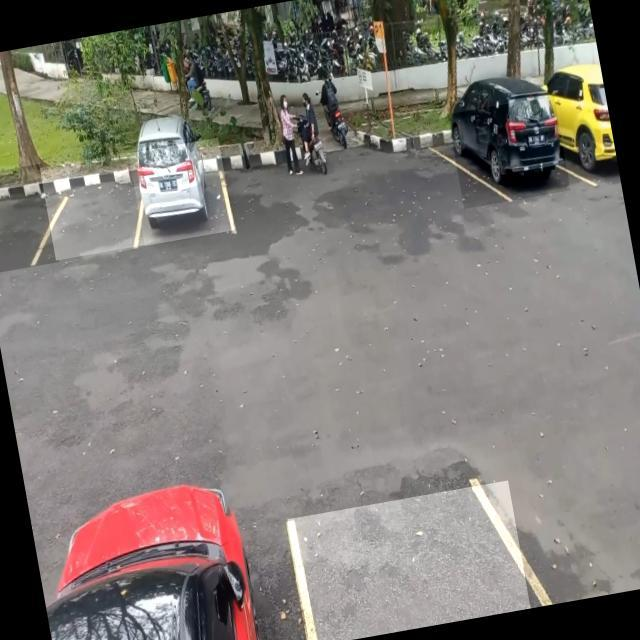empty: (287, 479, 530, 640), (40, 151, 146, 260), (0, 163, 58, 274)
occupied: (447, 95, 570, 208), (128, 137, 234, 245)
